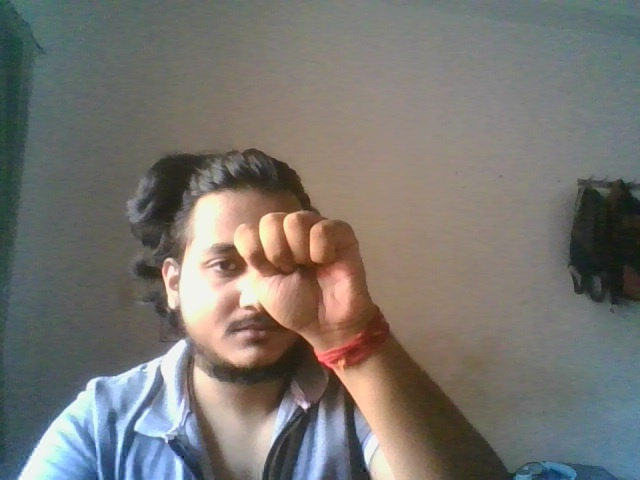Close: (234, 210, 372, 327)
